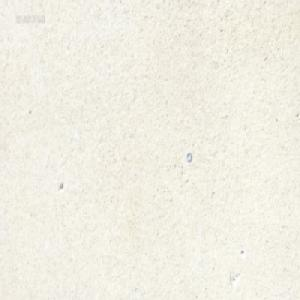Washer: (185, 152, 192, 163)
